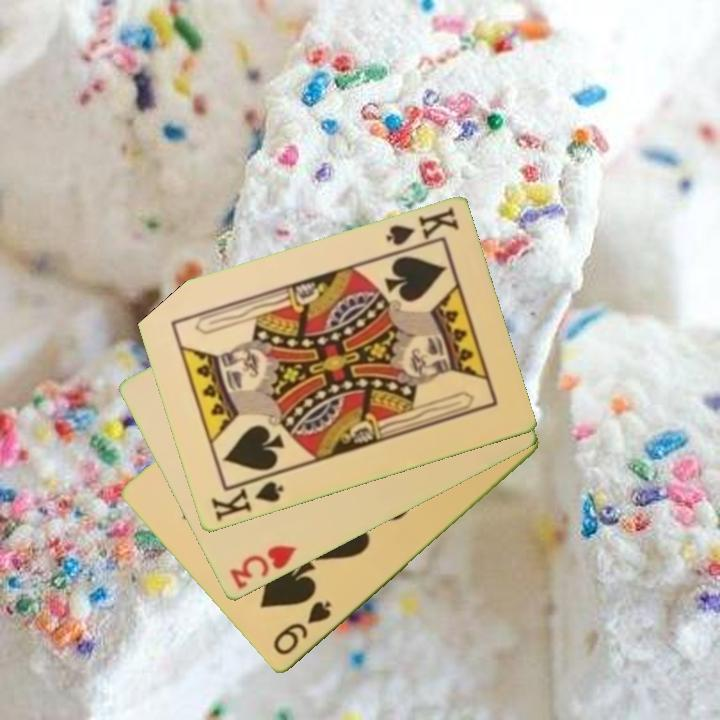3h: (226, 542, 299, 593)
9s: (269, 598, 335, 659)
Ks: (207, 471, 286, 525), (382, 204, 462, 257)
